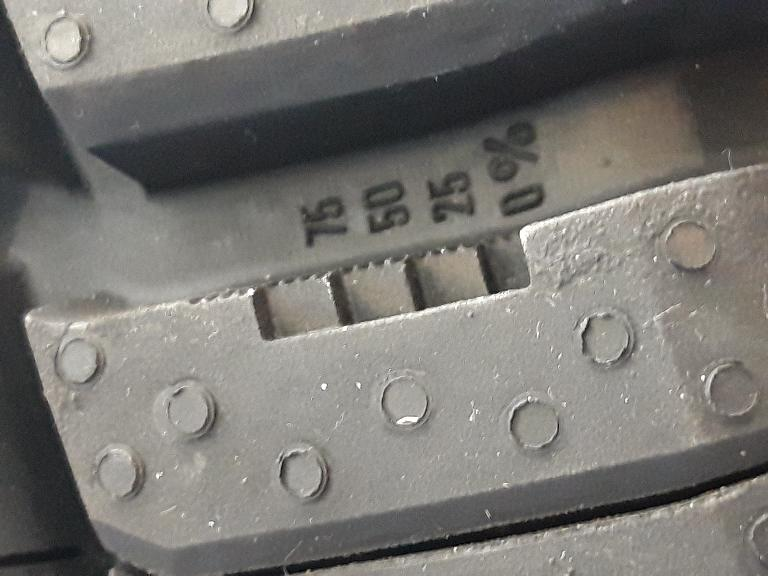temoin:100: (185, 219, 536, 348)
